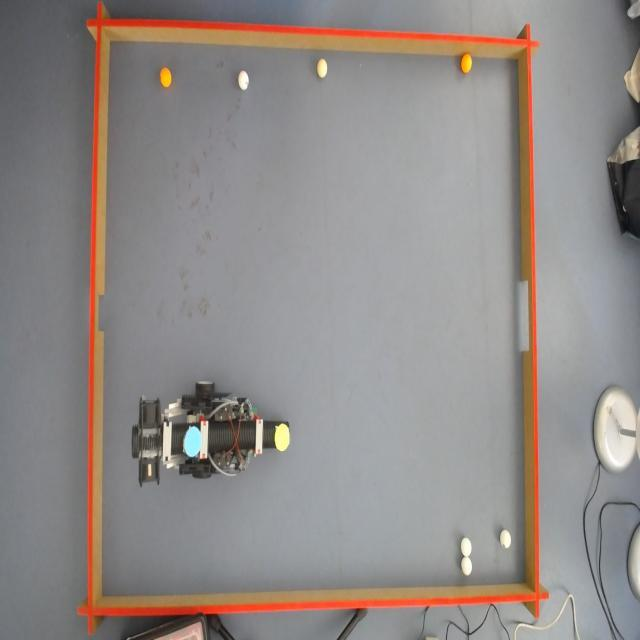orange: (160, 68, 172, 88), (462, 54, 472, 74)
robot: (130, 385, 284, 490)
robot-front: (274, 423, 290, 451)
robot-rear: (184, 426, 202, 458)
white: (238, 70, 250, 91), (316, 58, 328, 78), (461, 537, 472, 557), (461, 557, 472, 576), (500, 530, 511, 548)
